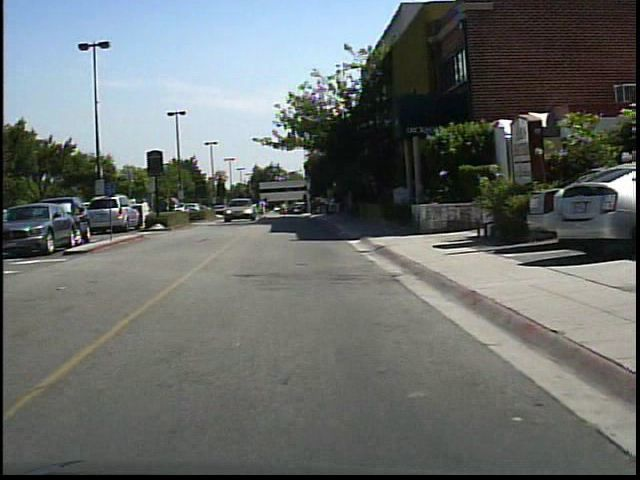person: (156, 191, 172, 225), (255, 194, 268, 222)
